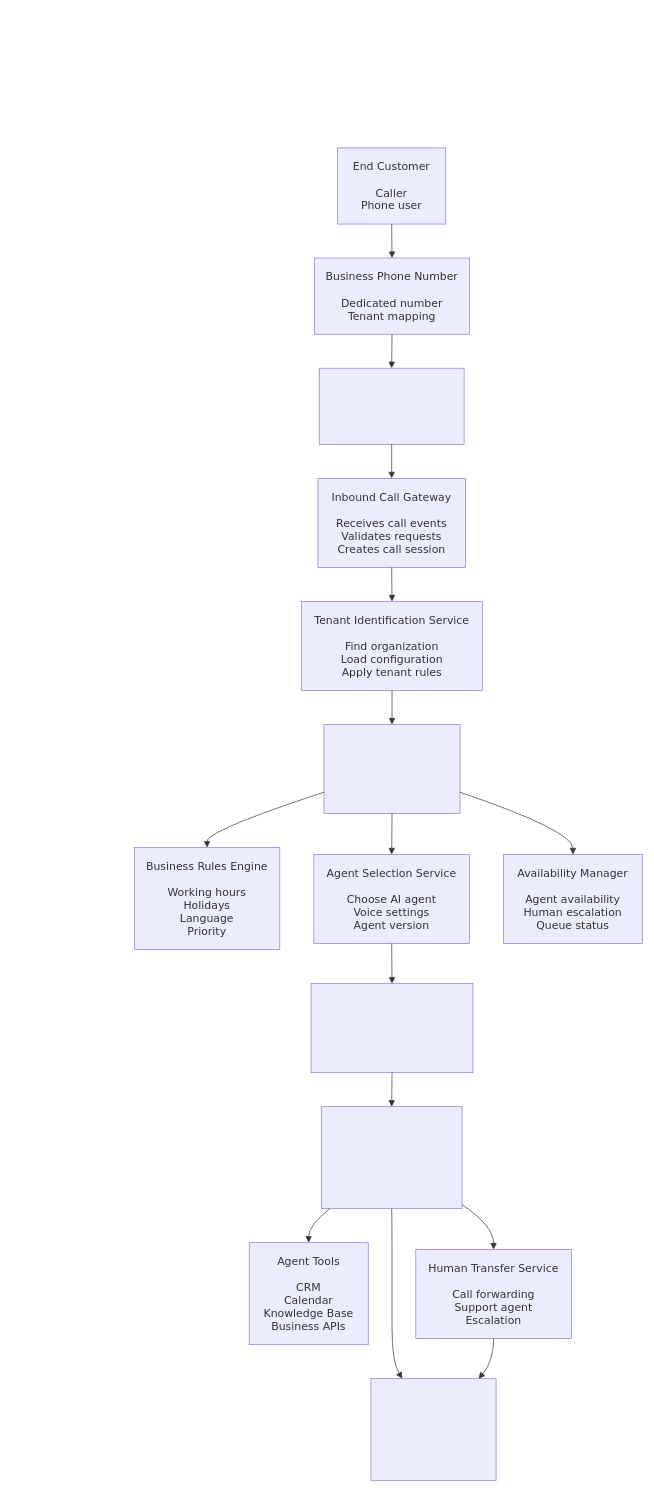
The diagram is 654 pixels wide and 1493 high, and some of its shapes have lost their labels. The shapes that lost their labels are listed below. From the top down, each one's centre as x and y in pixels, then its label:
the point at 391,406: Twilio SIP Platform PSTN connection Inbound call handling
the point at 391,769: Call Routing Engine Decides destination Agent selection Workflow selection
the point at 391,1028: LiveKit Voice Platform Create room Audio streaming Realtime communication
the point at 391,1157: AI Agent Worker STT LLM TTS LangGraph workflow
the point at 433,1429: Call Data Storage Recordings Transcript Summary Analytics
